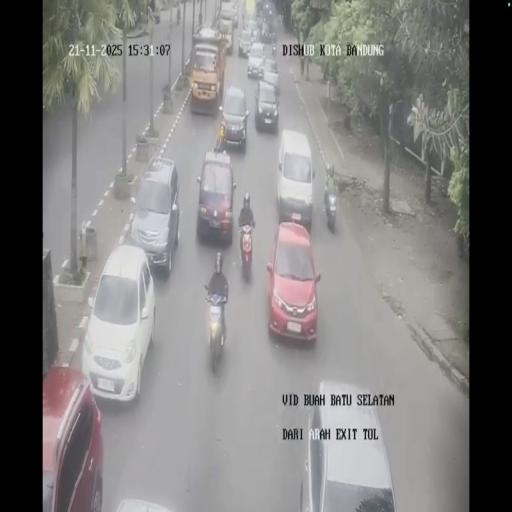3: (190, 32, 228, 114), (244, 0, 256, 24)
car: (300, 382, 395, 510), (82, 244, 156, 402), (42, 368, 103, 510), (266, 220, 320, 342), (129, 156, 179, 273), (195, 149, 237, 244), (276, 129, 314, 228), (219, 84, 249, 150), (254, 78, 279, 131), (217, 17, 235, 53), (238, 25, 255, 57), (247, 50, 265, 77), (260, 1, 274, 22)
truck: (205, 291, 227, 368), (238, 218, 254, 277), (323, 180, 337, 232), (261, 24, 272, 43), (272, 40, 276, 57)
